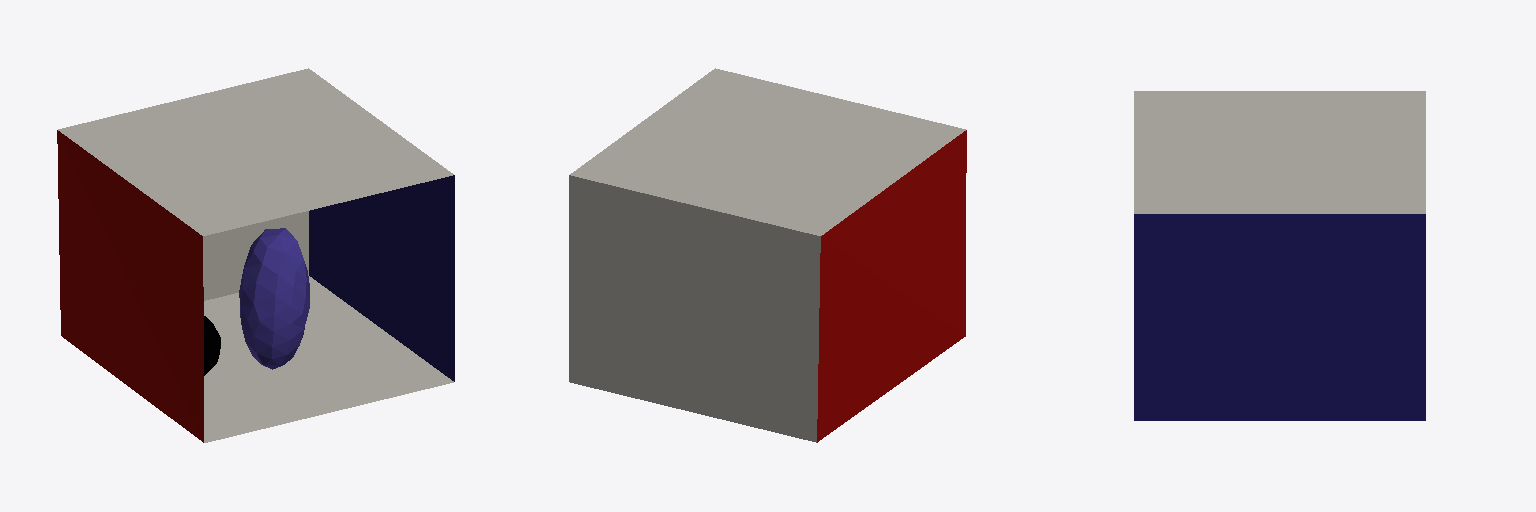
Rendered from CornellBox-Ellipsoid-354.obj.
The picture shows the model from 3 angles: view 1: azimuth 30°, elevation 25°; view 2: azimuth 150°, elevation 25°; view 3: azimuth 270°, elevation 25°; orthographic projection.
Visible parts, largest first — view 1: ceiling, leftWall, rightWall, floor, leftSphere, backWall, rightSphere; view 2: backWall, ceiling, leftWall; view 3: rightWall, ceiling.
Part boxes in pixels (bbox=[...]): ceiling: bbox=[58, 68, 453, 235]; leftWall: bbox=[57, 130, 203, 442]; rightWall: bbox=[309, 175, 454, 381]; floor: bbox=[204, 276, 453, 442]; leftSphere: bbox=[239, 228, 309, 369]; backWall: bbox=[203, 211, 308, 300]; rightSphere: bbox=[204, 316, 220, 375]; backWall: bbox=[569, 175, 820, 442]; ceiling: bbox=[570, 68, 965, 235]; leftWall: bbox=[817, 130, 966, 442]; rightWall: bbox=[1134, 214, 1425, 420]; ceiling: bbox=[1134, 91, 1425, 213].
Size of the model in its own units: 2.02 by 1.59 by 2.03.